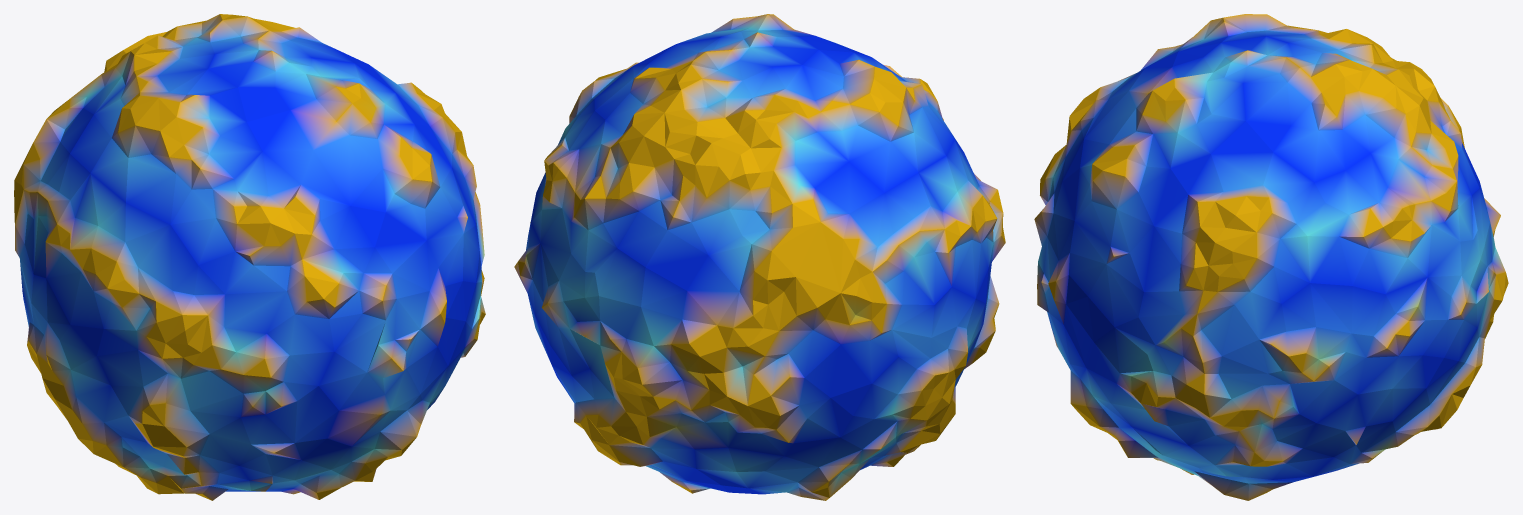
The model's file is planet_78.fbx.
3 views of the same model, side by side, from view 1: azimuth 30°, elevation 25°; view 2: azimuth 150°, elevation 25°; view 3: azimuth 270°, elevation 25° (orthographic). The views are drawn at different scales.
Parts seen in each view (by area): view 1: file1; view 2: file1; view 3: file1.
Part boxes in pixels (box(x1,y1,x2,y2)): file1: box(14, 14, 485, 500); file1: box(514, 14, 1005, 500); file1: box(1034, 14, 1508, 500).
Bounding box in the file's own units: 2.08 × 2.06 × 2.1.
